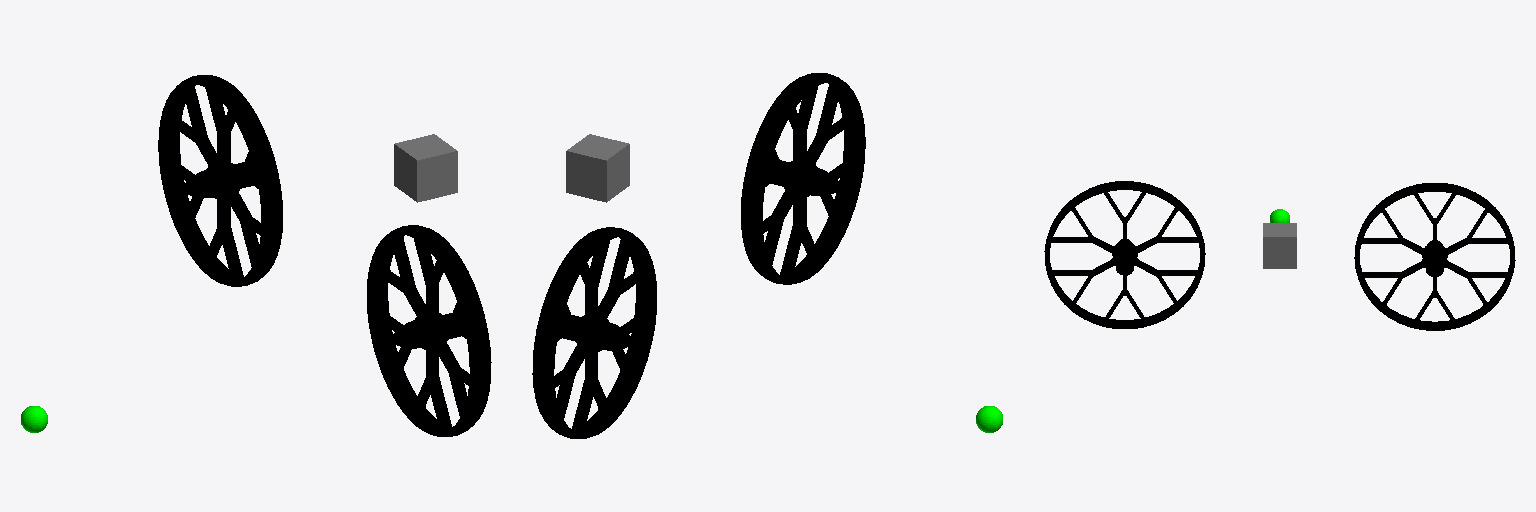
robot.urdf — puzzlebot:
<?xml version="1.0"?>
<robot name="puzzlebot">

  <link name="base_link">
    <inertial>
      <mass value="0.0001"/> 
      <origin xyz="0 0 0" />
      <inertia ixx="0.0" ixy="0.0" ixz="0.0" iyy="0.0" iyz="0.0" izz="0.0"/>
    </inertial>
  </link>

  <link name="chassis">
    <inertial>
      <mass value="0.8"/> 
      <origin rpy="1.5708 0 1.5708" xyz="0 0 0.05" /> 
      <inertia ixx="0.004" ixy="0.0" ixz="0.0" iyy="0.004" iyz="0.0" izz="0.004"/>
    </inertial>
    <visual>
      <origin rpy="1.5708 0 1.5708" xyz="0 0 0.05" />
      <geometry>
        <mesh filename="package://puzzlebot_challenge/meshes/chassis.stl"/>
      </geometry>
      <material name="white">
        <color rgba="1.0 1.0 1.0 1.0"/>
      </material>
    </visual>
    <collision>
      <origin rpy="1.5708 0 1.5708" xyz="0 0 0.05" />
      <geometry>
        <mesh filename="package://puzzlebot_challenge/meshes/chassis.stl"/>
      </geometry>
    </collision>

  </link>

  <link name="lidar_link">
    <inertial>
      <mass value="0.1"/>
      <origin xyz="0.045 0 0.0" rpy="0 0 0"/>
      <inertia ixx="1e-5" ixy="0" ixz="0" iyy="1e-5" iyz="0" izz="1e-5"/>
    </inertial>
    <visual>
      <origin xyz="0.0 0 0.0" rpy="0 0 0"/>
      <geometry>
        <mesh filename="package://puzzlebot_challenge/meshes/LiDAR.stl" scale="0.001 0.001 0.001"/>
      </geometry>
      <material name="black">
        <color rgba="0 0 0 1.0"/>
      </material>
    </visual>
    <collision>
      <origin xyz="0.045 0 0.0" rpy="0 0 0"/>
      <geometry>
        <mesh filename="package://puzzlebot_challenge/meshes/LiDAR.stl" scale="0.001 0.001 0.001"/>
      </geometry>
    </collision>
  </link>

 <link name="left_wheel">
    <inertial>
      <mass value="0.05"/> 
      <origin rpy="0 1.5708 -1.5708" xyz="0.0 0.0 0.0" />
      <inertia ixx="0.002" ixy="0.0" ixz="0.0" iyy="0.002" iyz="0.0" izz="0.002"/>
    </inertial>
    <visual>
      <origin rpy="0 1.5708 -1.5708" xyz="0.0 0.0 0.0"/>
      <geometry>
        <mesh filename="package://puzzlebot_challenge/meshes/wheel.stl"/>
      </geometry>
      <material name="black">
        <color rgba="0 0 0 1.0"/>
      </material>
    </visual>
    <collision>
      <origin rpy="0 1.5708 -1.5708" xyz="0.0 0.0 0.0" />
      <geometry>
        <mesh filename="package://puzzlebot_challenge/meshes/wheel.stl"/>
      </geometry>
      <surface>
        <friction>
          <ode>
            <mu>1.0</mu>
            <mu2>1.0</mu2>
          </ode>
        </friction>
      </surface>
    </collision>
  </link>

  <link name="right_wheel">
    <inertial>
      <mass value="0.05"/> 
      <origin rpy="0 -1.5708 -1.5708" xyz="0.0 0.0 0.0" />
      <inertia ixx="0.002" ixy="0.0" ixz="0.0" iyy="0.002" iyz="0.0" izz="0.002"/>
    </inertial>
    <visual>
      <origin rpy="0 -1.5708 -1.5708" xyz="0.0 0.0 0.0"/>
      <geometry>
        <mesh filename="package://puzzlebot_challenge/meshes/wheel.stl"/>
      </geometry>
      <material name="black">
        <color rgba="0 0 0 1.0"/>
      </material>
    </visual>
    <collision>
      <origin rpy="0 -1.5708 -1.5708" xyz="0.0 0.0 0.0" />
      <geometry>
        <mesh filename="package://puzzlebot_challenge/meshes/wheel.stl"/>
      </geometry>
      <surface>
        <friction>
          <ode>
            <mu>1.0</mu>
            <mu2>1.0</mu2>
          </ode>
        </friction>
      </surface>
    </collision>
  </link>

  <link name='caster'>
    <inertial>
      <mass value="0.01"/>
      <origin xyz="0 0.0 0.0" rpy="0 0 0"/>
      <inertia ixx="0.0000025" ixy="0" ixz="0" iyy="0.0000025" iyz="0" izz="0.0000025"/>
    </inertial>
    <visual name='visual'>
      <origin xyz="0 0.0 0.0" rpy="0 0 0"/>
      <geometry>
        <sphere radius="0.006"/>
      </geometry>
      <material name="green">
        <color rgba="0.0 1 0.0 1"/>
      </material>
    </visual>
    <collision name='collision'>
      <origin xyz="0 0.0 0.0" rpy="0 0 0"/>
      <geometry>
        <sphere radius="0.006"/>
      </geometry>
    </collision>
  </link>

  <joint name="chassis_joint" type="fixed">
    <parent link="base_link"/>
    <child link="chassis"/>
    <origin xyz="0 0 0" rpy="0 0 0"/>
  </joint>
  
  <gazebo>
    <plugin name="DiffDynamicPlugin" filename="libDiffDynamicPlugin.so">
      <leftJoint>left_wheel_joint</leftJoint>
      <rightJoint>right_wheel_joint</rightJoint>
      <cmd_R_topic>VelocitySetR</cmd_R_topic>
      <cmd_L_topic>VelocitySetL</cmd_L_topic>
      <cmd_vel_topic>cmd_vel</cmd_vel_topic>
      <enc_R_topic>VelocityEncR</enc_R_topic>
      <enc_L_topic>VelocityEncL</enc_L_topic>
      <robot_vel_topic>robot_vel</robot_vel_topic>
      <mot_Vmax>5</mot_Vmax>
      <mot_J>0.0005</mot_J>
      <mot_R>2</mot_R>
      <mot_L>0.01</mot_L>
      <mot_K>0.01</mot_K>
      <mot_b>0.00001</mot_b>
      <mot_gear>34</mot_gear>
      <robot_width>0.18</robot_width>
      <wheel_radius>0.05</wheel_radius>
      <pid_Kp>0.1</pid_Kp>
      <pid_Ti>0.05</pid_Ti>
      <pid_Td>0</pid_Td>
      <input_type>1</input_type>
      <rate>100</rate>
    </plugin> 
    <plugin filename="gz-sim-joint-state-publisher-system" name="gz::sim::systems::JointStatePublisher">
        <topic>joint_states</topic> 
        <joint_name>left_wheel_joint</joint_name>
        <joint_name>right_wheel_joint</joint_name>
    </plugin>

    <plugin filename="gz-sim-pose-publisher-system" name="gz::sim::systems::PosePublisher">
        <publish_link_pose>true</publish_link_pose>
        <use_pose_vector_msg>true</use_pose_vector_msg>
        <static_publisher>true</static_publisher>
        <static_update_frequency>1</static_update_frequency>
    </plugin>
  </gazebo>

  <link name="camera_link">
    <inertial>
      <mass value="0.01"/>
      <origin xyz="0.1 0 0.08"/> 
      <inertia ixx="0.0001" ixy="0.0" ixz="0.0" iyy="0.0001" iyz="0.0" izz="0.0001"/>
    </inertial>
    <visual>
      <geometry>
        <box size="0.02 0.02 0.02"/> 
      </geometry>
      <material name="gray">
        <color rgba="0.5 0.5 0.5 1.0"/>
      </material>
    </visual>
  </link>

  <joint name="camera_joint" type="fixed">
    <parent link="chassis"/>
    <child link="camera_link"/>
    <origin xyz="0.1 0 0.08" rpy="0 0 0"/> 
  </joint>
  <joint name='caster_wheel' type='fixed'>
    <parent link='chassis'/>
    <child link='caster'/>
    <origin xyz="-0.095 0.0 0.006" rpy="0 0 0"/>
  </joint>
  <joint name="lidar_joint" type="fixed">
    <parent link='chassis'/>
    <child link='lidar_link'/>
    <origin xyz="0.045 0 0.138" rpy="0 0 0"/>
  </joint>

  <joint name="left_wheel_joint" type="continuous">
    <parent link="chassis"/>
    <child link="left_wheel"/>
     <origin xyz="0.05 0.09 0.05" rpy="0 0 0"/>
    <axis xyz="0 1 0"/>
  </joint>

  <joint name="right_wheel_joint" type="continuous">
    <parent link="chassis"/>
    <child link="right_wheel"/>
    <origin xyz="0.05 -0.09 0.05" rpy="0 0 0"/> 
    <axis xyz="0 1 0"/>
  </joint>  

  

  <gazebo reference="camera_link">
    <sensor name="camera" type="camera">
        <camera>
          <horizontal_fov>1.047</horizontal_fov>
          <image>
              <width>1280</width>
              <height>720</height>
          </image>
          <clip>
              <near>0.1</near>
              <far>100</far>  
          </clip>
        </camera>
        <always_on>1</always_on>
        <update_rate>10</update_rate>
        <visualize>false</visualize>
      </sensor>
  </gazebo>
</robot>

--- What the picture shows (computed from the rendered views, not written in the file) ---
3 views of the same robot in one strip: view 1: azimuth 30°, elevation 25°; view 2: azimuth 150°, elevation 25°; view 3: azimuth 270°, elevation 25° (orthographic).
Robot: puzzlebot — 7 links, 6 joints (2 continuous, 4 fixed); root link base_link; default pose: every joint at zero.
Links seen in each view (by area): view 1: left_wheel, right_wheel, camera_link, caster; view 2: right_wheel, left_wheel, camera_link, caster; view 3: left_wheel, right_wheel, camera_link.
Link boxes in pixels (x1,y1,x2,y2): left_wheel: (158, 75, 282, 286); right_wheel: (367, 225, 491, 436); camera_link: (394, 134, 457, 202); caster: (21, 406, 47, 432); right_wheel: (741, 73, 865, 284); left_wheel: (532, 227, 656, 438); camera_link: (566, 134, 629, 202); caster: (976, 406, 1002, 432); left_wheel: (1354, 183, 1515, 330); right_wheel: (1044, 181, 1205, 328); camera_link: (1263, 223, 1296, 268).
Bounding box of the posed robot: 0.211 × 0.2729 × 0.0972 m (x, y, z).
2 mesh visuals loaded from 3 distinct referenced files (1 binary STL); not drawn: 2 (reference not matched to a file when rendering).
